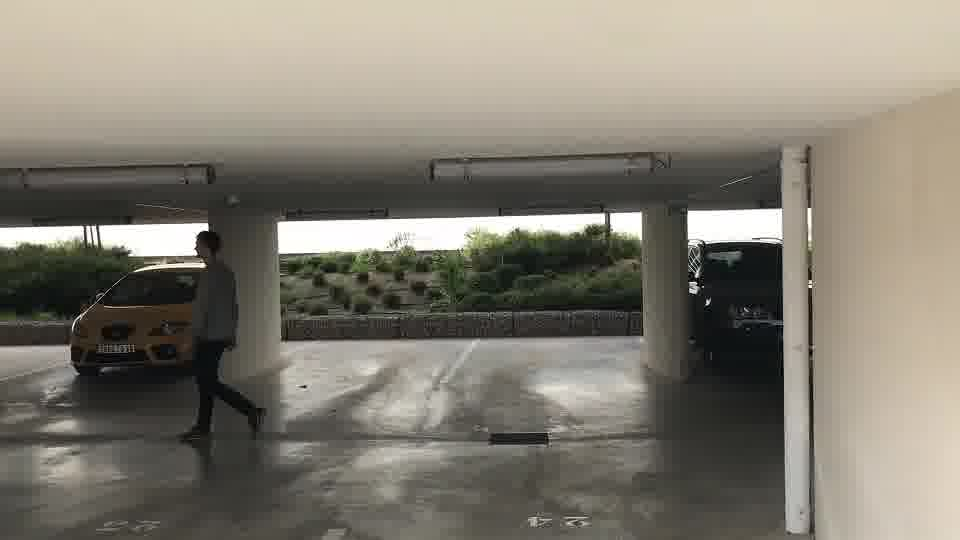jugador: (170, 223, 268, 452)
